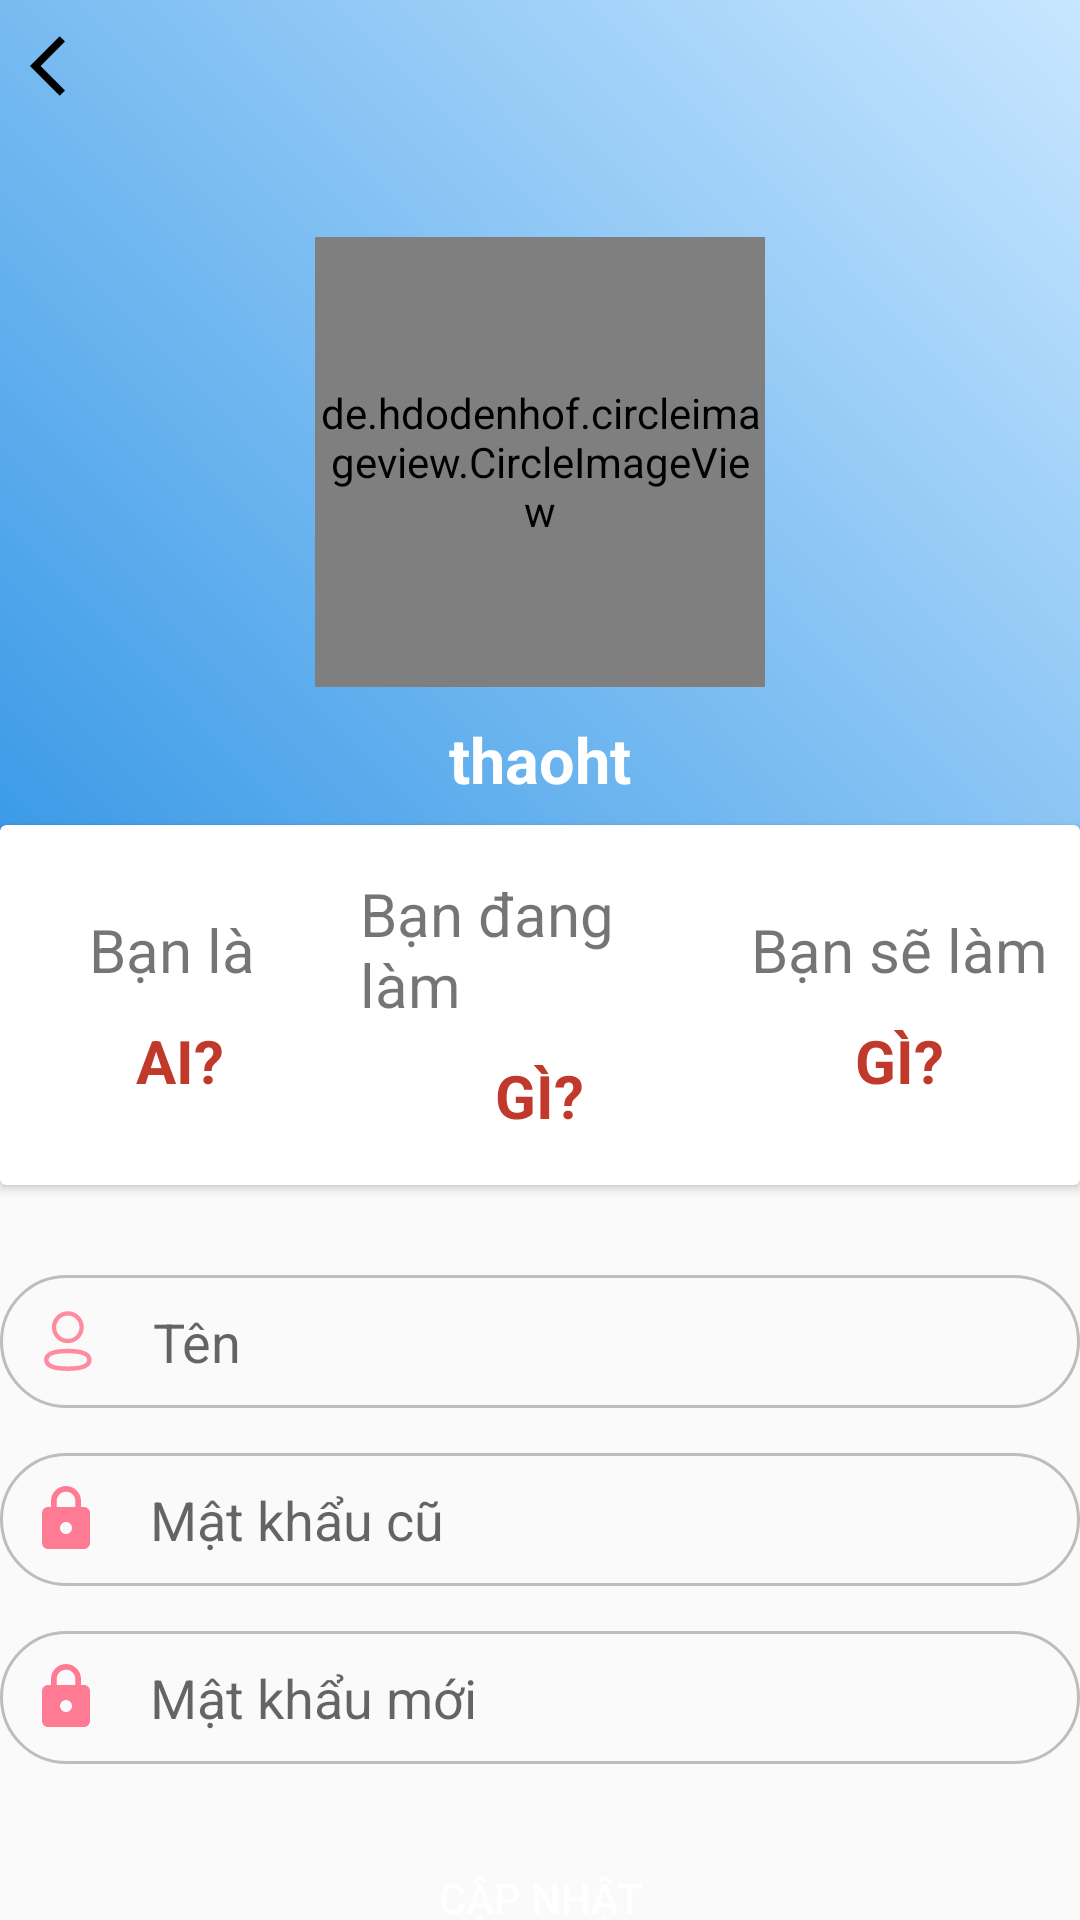

Named icons in this screenshot (1080w x 1920h) and their bounding boxes, [x1, y1, x2, y2]:
arrow back: [30, 36, 65, 96]
